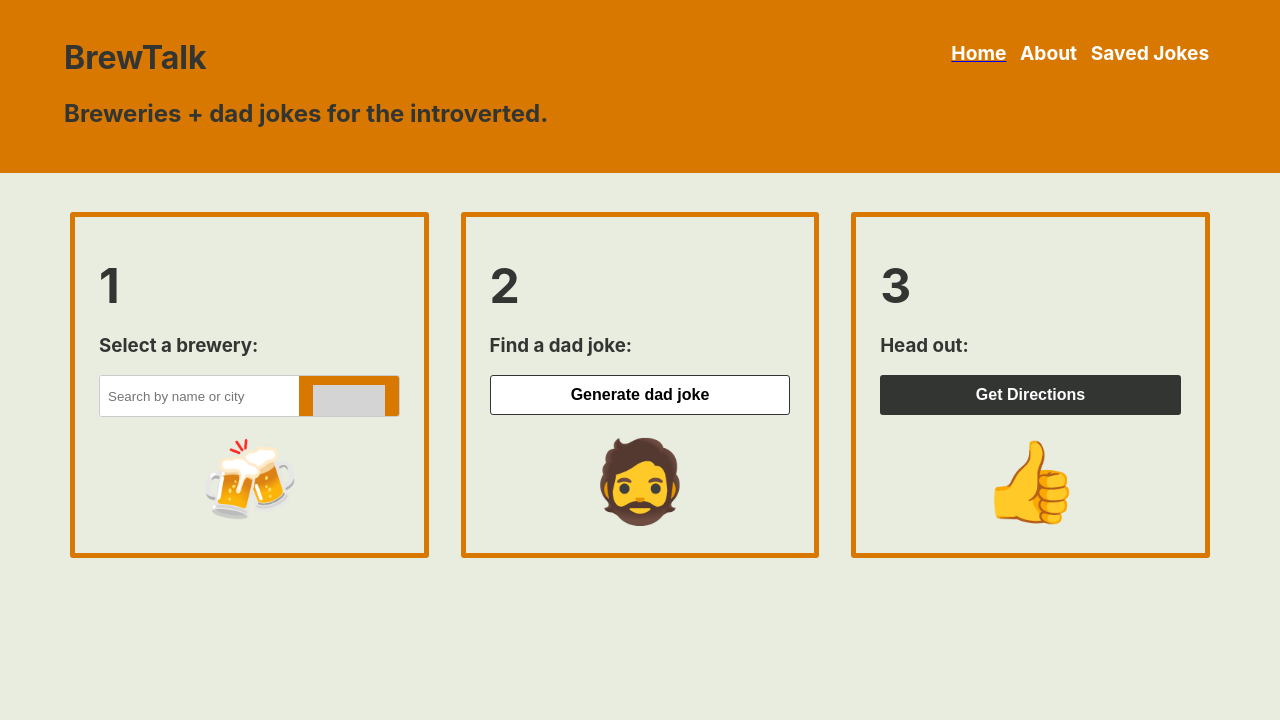
Test case: Saved Jokes Page › Should render correctly without any saved jokes upon initial visit
What coordinates should you click on to do the following:
click the list item "Saved Jokes"
I would click on:
 (1154, 53)
Its box is x1=1088 y1=38 x2=1219 y2=68.
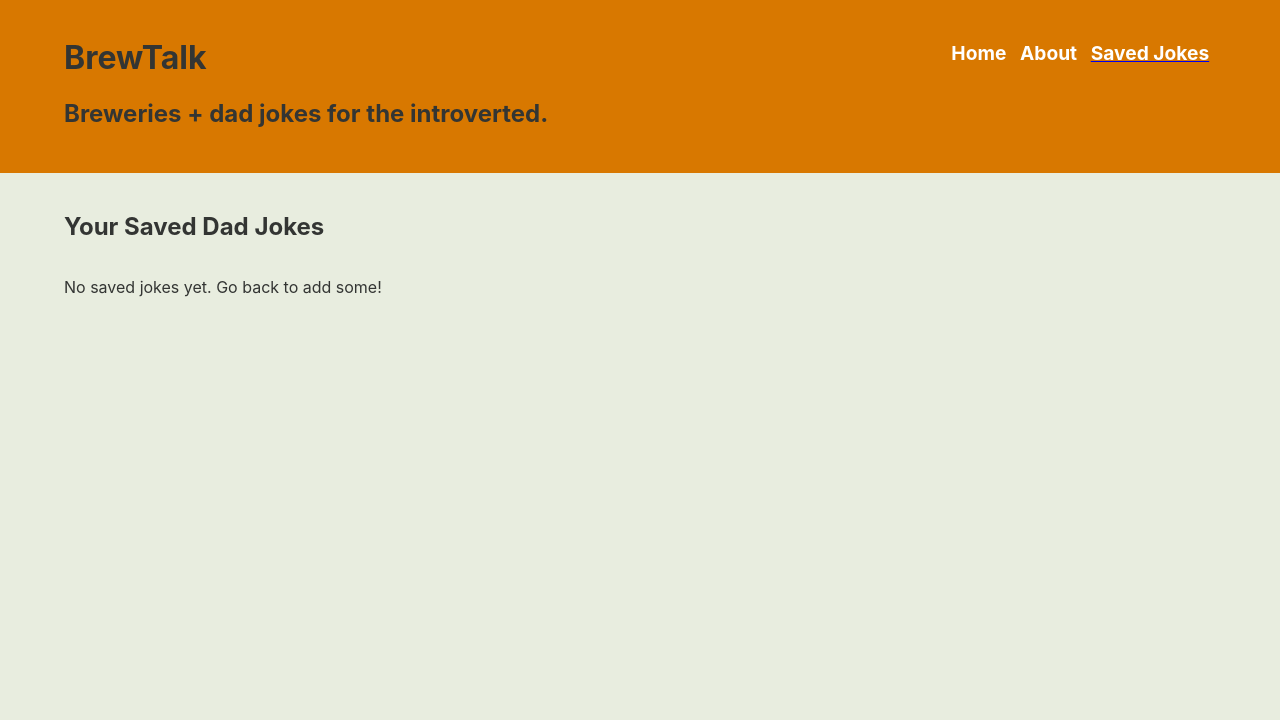
Expected: the heading "Your Saved Dad Jokes" is shown, x1=64 y1=212 x2=324 y2=241
Expected: the text "No saved jokes yet. Go back to add some!" is shown, x1=64 y1=277 x2=382 y2=297
